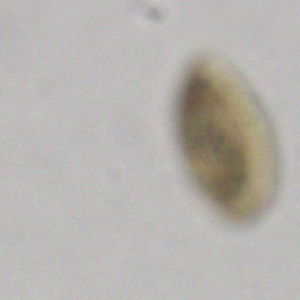Fasciola_hepatica_egg: (178, 46, 282, 225)
